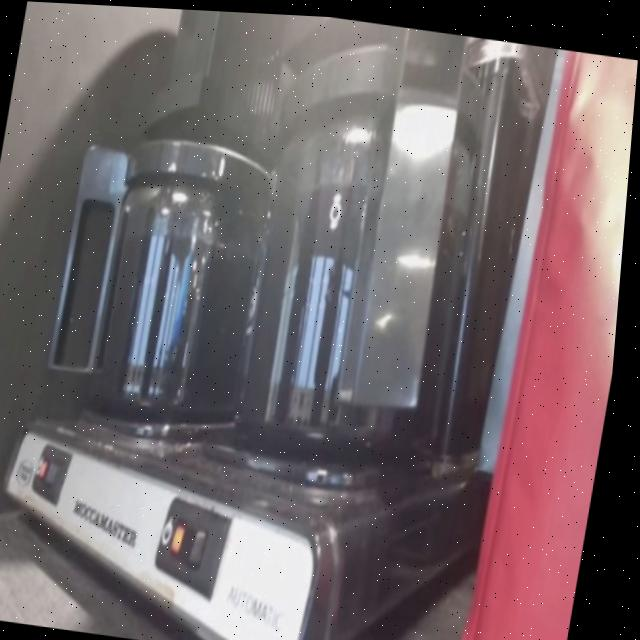coffee: (243, 152, 479, 449), (90, 192, 273, 414)
